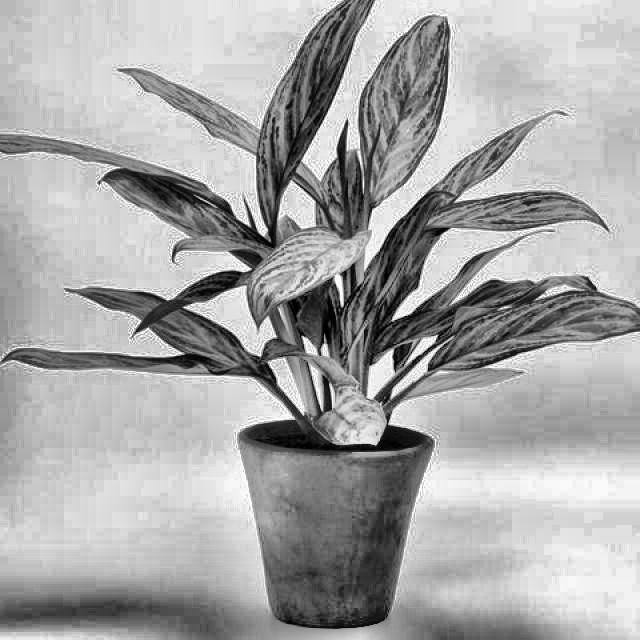plants: (5, 1, 628, 624)
